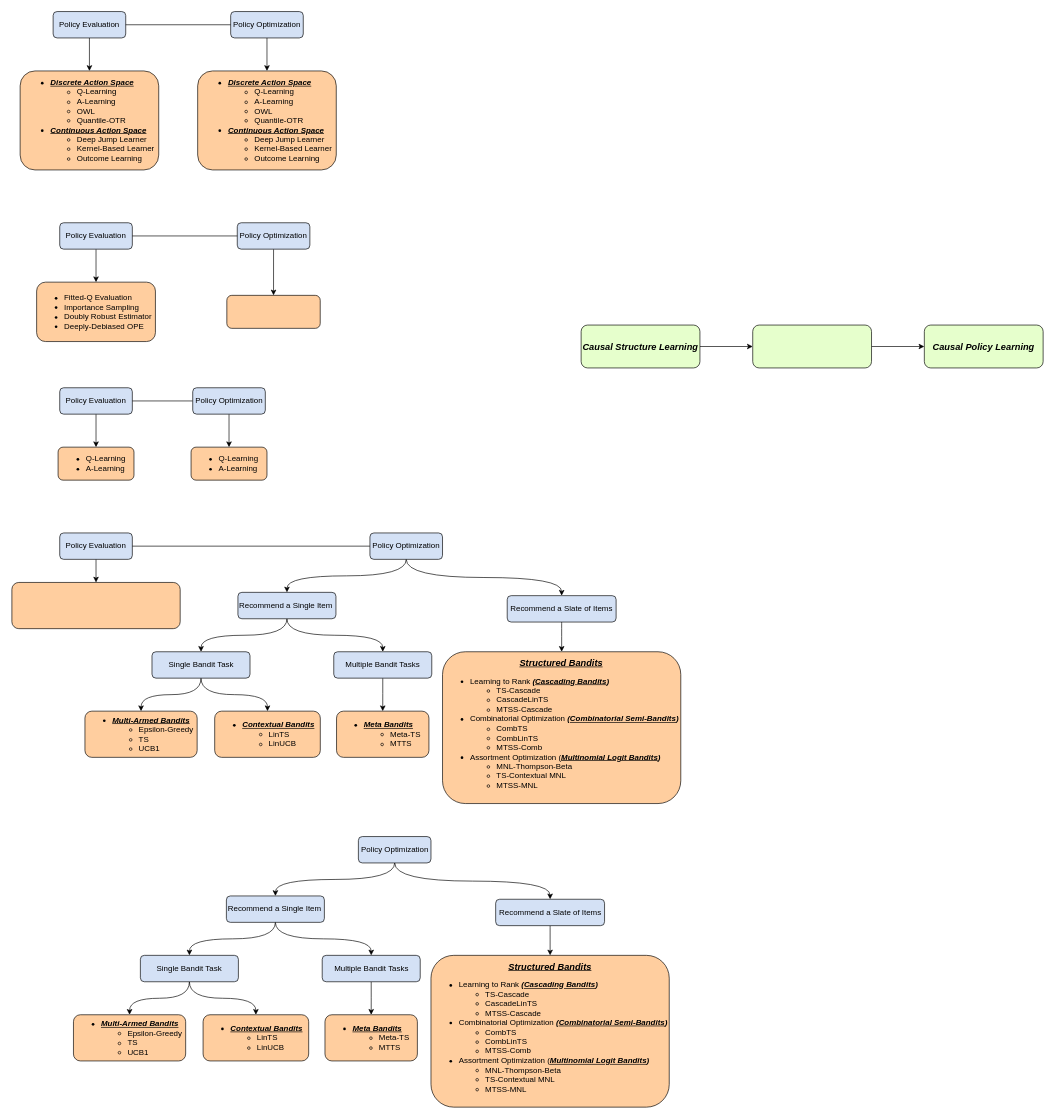
Image size: 1055x1119. Some labels were removed from this diagram. Here are the shapes that lost their labels. From the top down, the centre of each, then its label:
At [273,311]: "Fitted-Q Iteration".
At [812,346]: "Causal Effect Learning".
At [95,605]: "Direct Evaluator Inverse Probability Weighted Evaluator Doubly Robust Evaluator".
